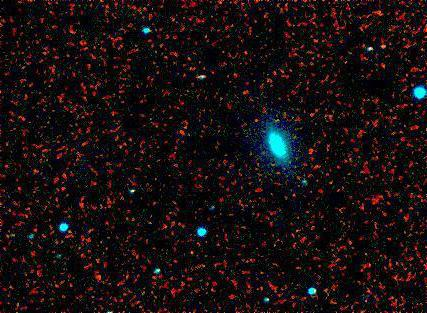star: (368, 29, 398, 59)
